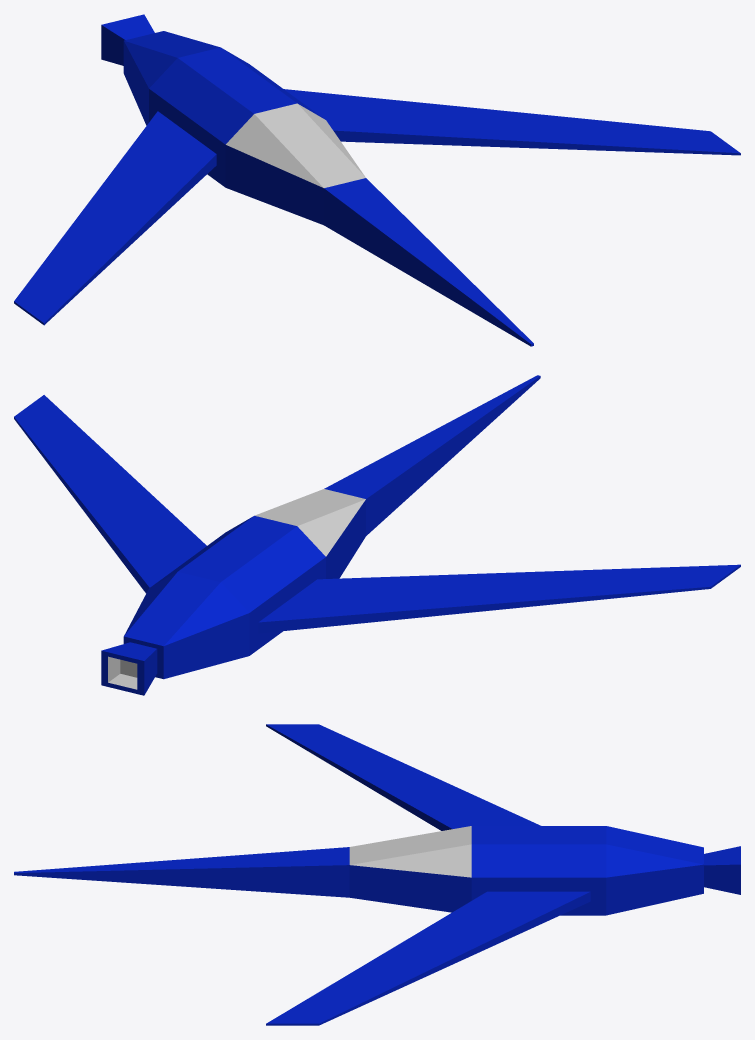
Rendered from ship2.obj.
The picture shows the model from 3 angles, top to bottom: view 1: azimuth 30°, elevation 25°; view 2: azimuth 150°, elevation 25°; view 3: azimuth 270°, elevation 25°; orthographic projection. The views are drawn at different scales.
Visible parts, largest first — view 1: Cube; view 2: Cube; view 3: Cube.
Boxes of the visible parts, x1,y1,x2,y2 form: Cube: (14,14,740,346); Cube: (14,375,740,695); Cube: (14,724,740,1025).
Bounding box in the file's own units: 10.52 × 1.04 × 10.8.
